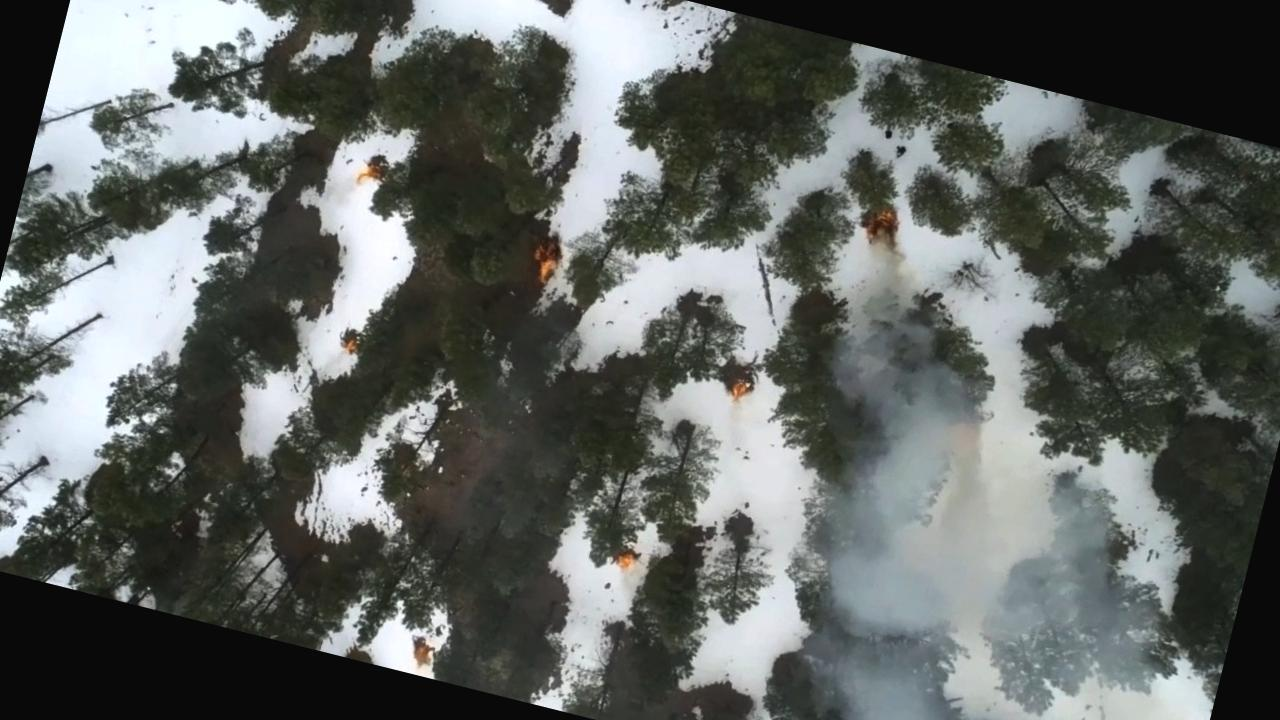fire: (518, 230, 570, 292), (853, 201, 910, 251), (720, 373, 759, 413), (609, 545, 645, 583)
smoke: (796, 316, 1155, 612), (779, 542, 1230, 720)
